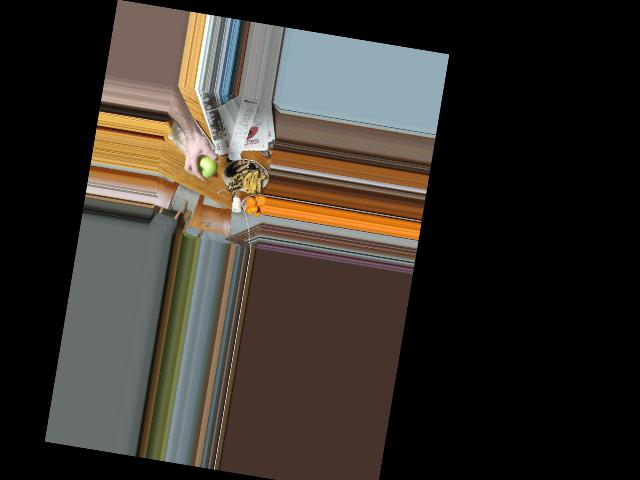apple: (191, 152, 219, 182)
